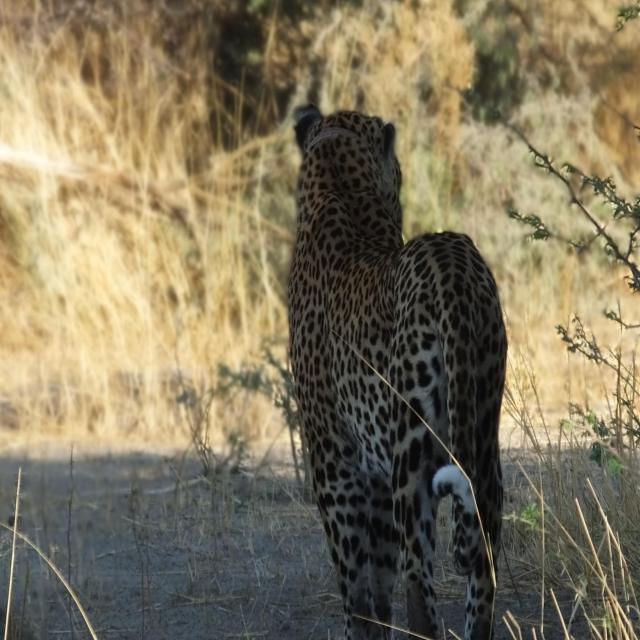Leopard: (289, 107, 512, 640)
